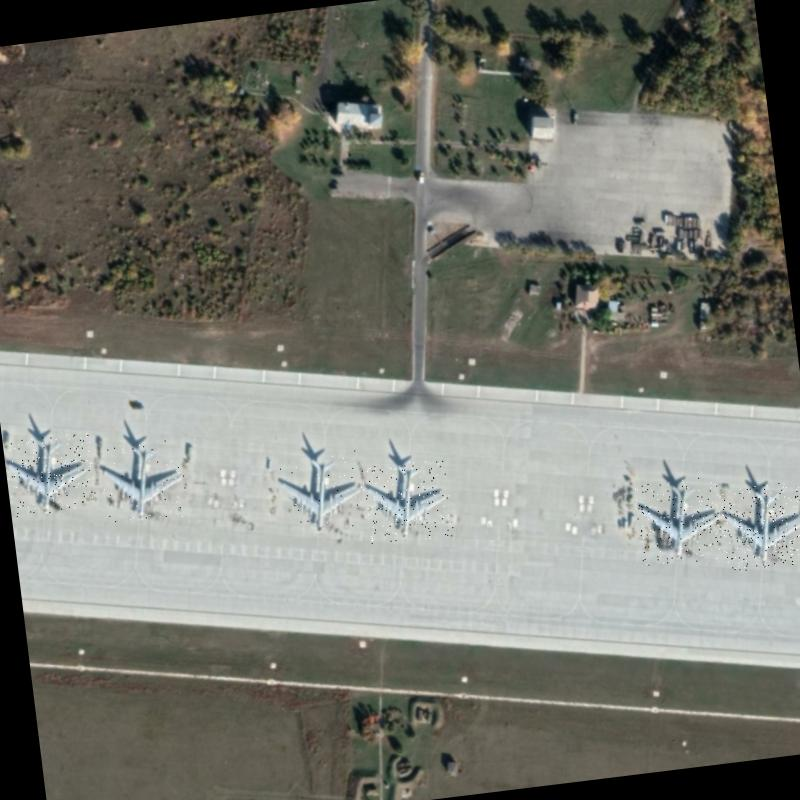A17: (634, 475, 726, 568), (273, 449, 370, 536), (97, 437, 190, 526), (361, 457, 454, 546), (4, 431, 98, 517), (718, 479, 800, 572)
